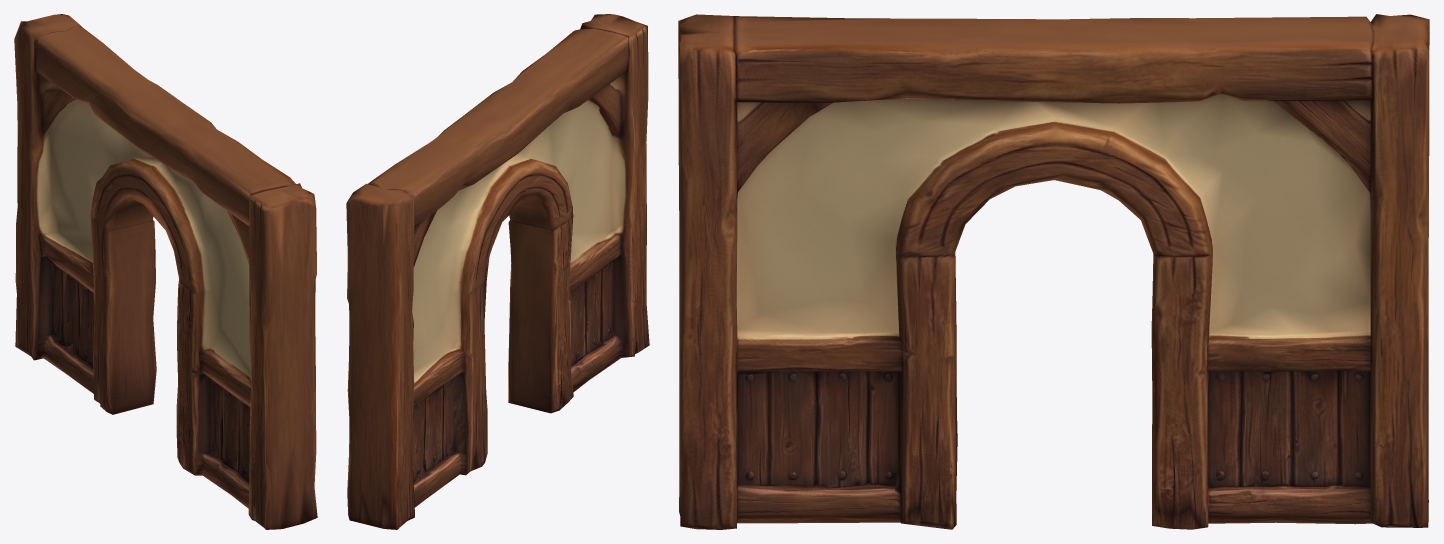
File: tripo_convert_63488947-8421-4e05-9ca4-6523b189d5e6.fbx
3 views of the same model, side by side, from view 1: azimuth 30°, elevation 25°; view 2: azimuth 150°, elevation 25°; view 3: azimuth 270°, elevation 25° (orthographic). The views are drawn at different scales.
Visible parts, largest first — view 1: tripo_node_63488947; view 2: tripo_node_63488947; view 3: tripo_node_63488947.
Part boxes in pixels (x1,y1,x2,y2): tripo_node_63488947: [14, 14, 317, 529]; tripo_node_63488947: [346, 14, 649, 529]; tripo_node_63488947: [678, 14, 1429, 529].
Bounding box in the file's own units: 0.1173 × 0.6936 × 0.9793.
Materials: 1 (1 with a texture image).
